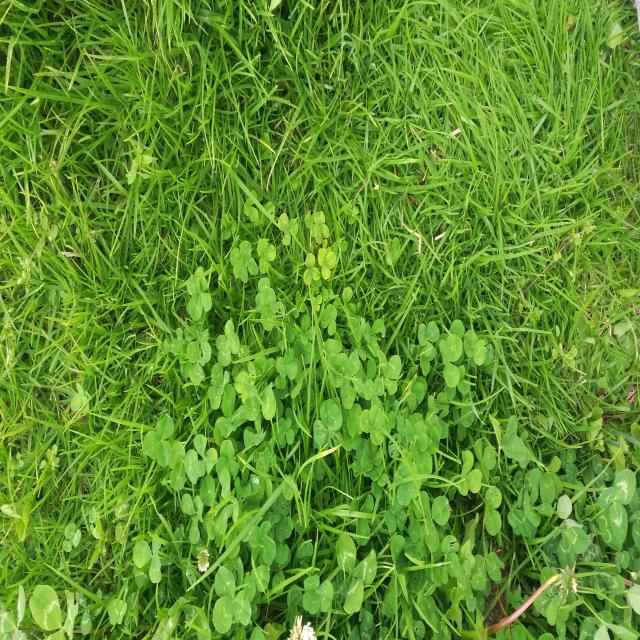Four Leaf Clover: (186, 266, 212, 321), (215, 319, 240, 367)
